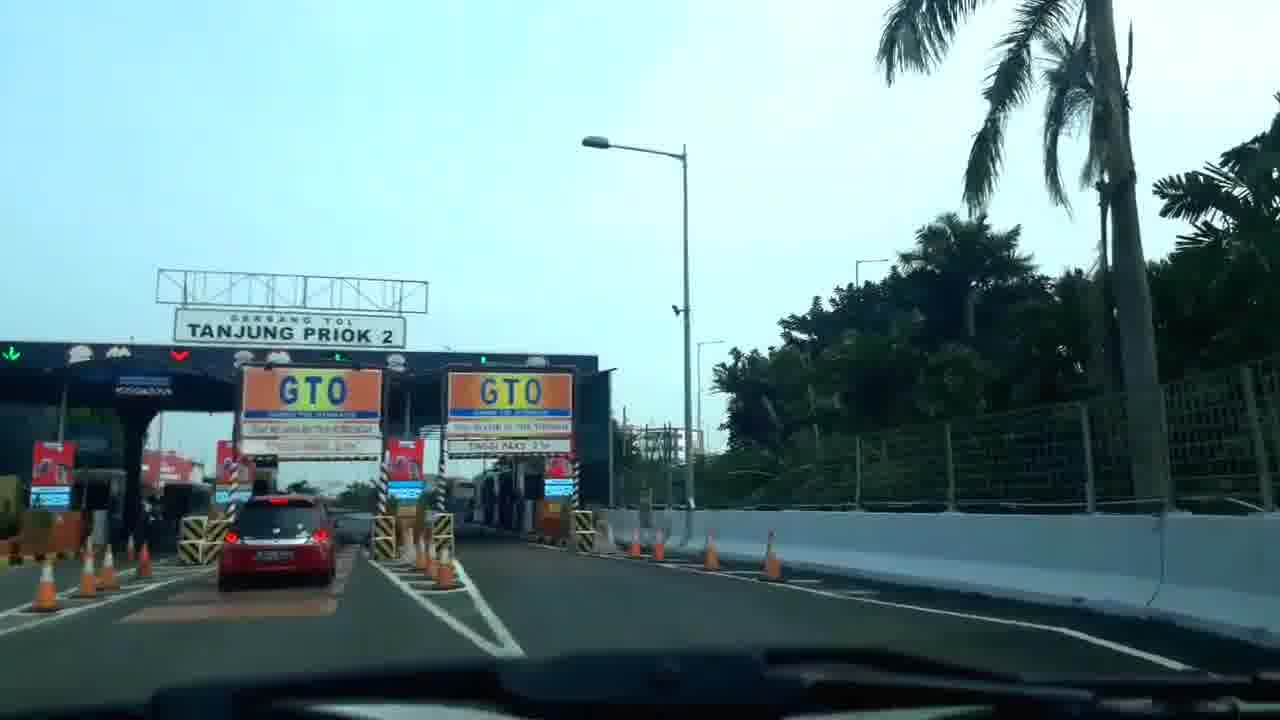plate_positive: (255, 549, 292, 562)
